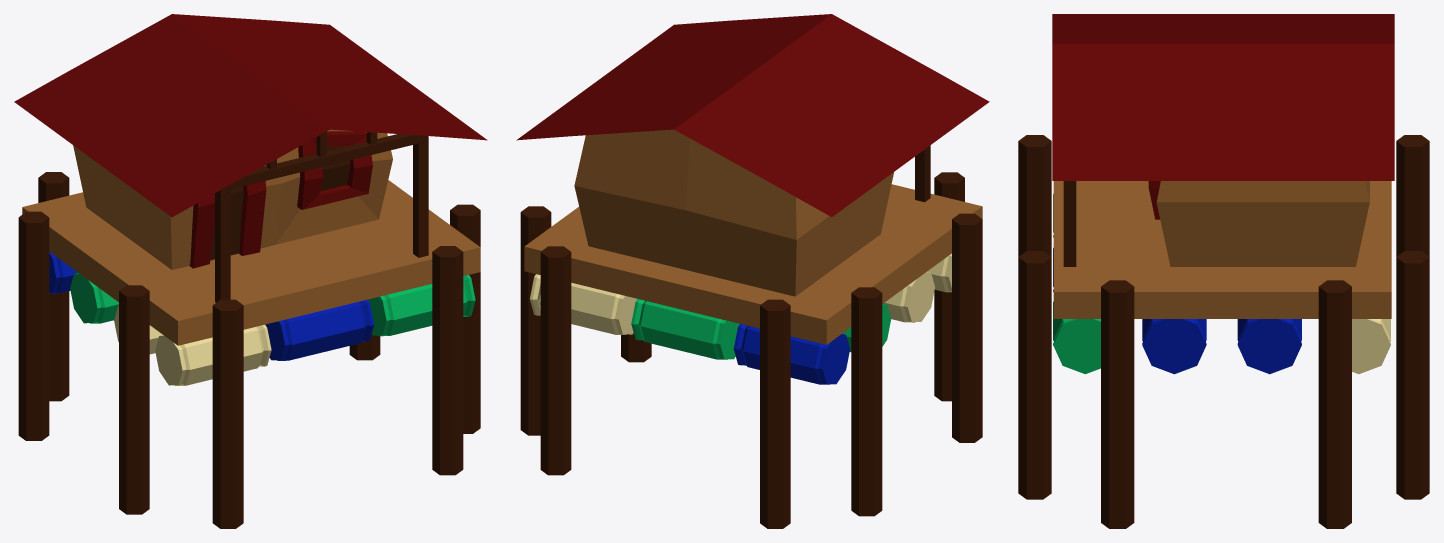
Rendered from 07.11.2026_Bubuia_flutuante2-0.fbx.
3 views of the same model, side by side, from view 1: azimuth 30°, elevation 25°; view 2: azimuth 150°, elevation 25°; view 3: azimuth 270°, elevation 25° (orthographic). The views are drawn at different scales.
Visible parts, largest first — view 1: Cube.019; view 2: Cube.019; view 3: Cube.019.
Part boxes in pixels (x1,y1,x2,y2): Cube.019: (14, 14, 487, 528); Cube.019: (516, 14, 989, 528); Cube.019: (1018, 14, 1429, 528).
Bounding box in the file's own units: 14.46 × 14.09 × 13.42.
